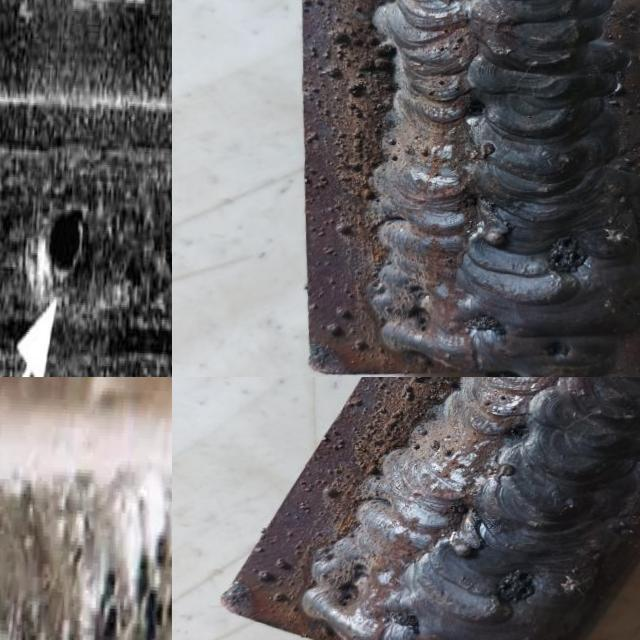defect: (93, 475, 172, 640), (46, 198, 89, 293), (543, 236, 592, 277), (488, 566, 537, 607), (67, 511, 96, 569), (404, 282, 434, 334), (462, 311, 509, 342), (384, 608, 424, 636), (463, 93, 494, 116), (538, 340, 571, 358), (505, 422, 529, 438)
